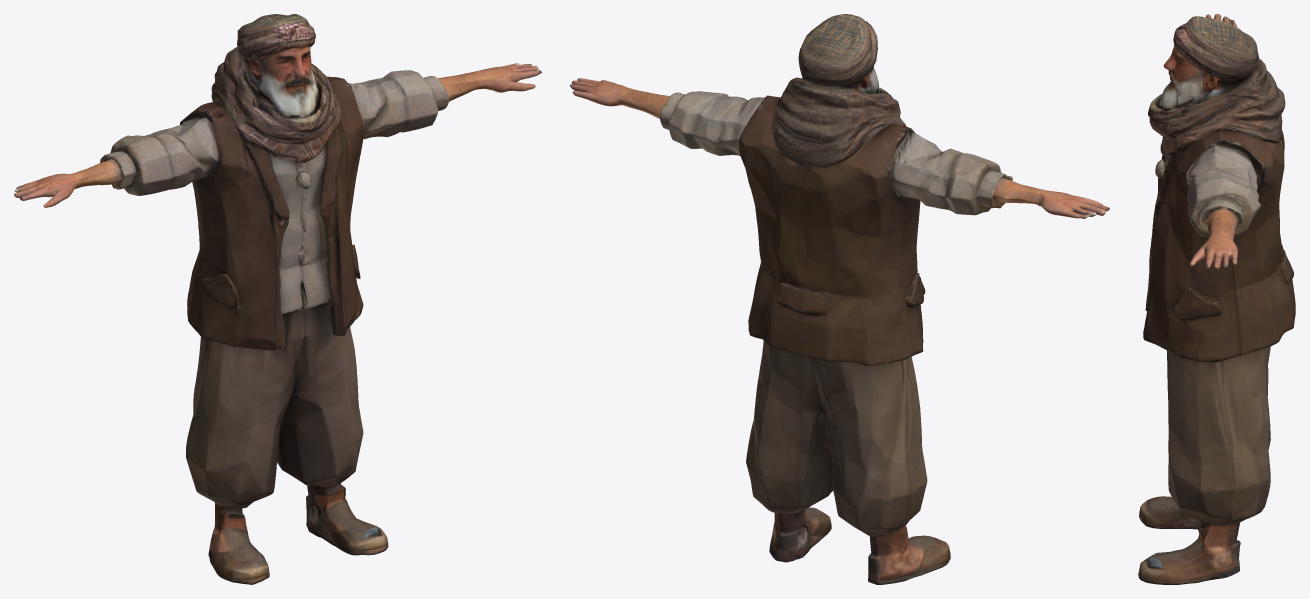
The model's file is turkish_old_villager_men_t-pose.glb.
3 renders of one model, left to right at view 1: azimuth 30°, elevation 25°; view 2: azimuth 150°, elevation 25°; view 3: azimuth 270°, elevation 25°, orthographic. The views are drawn at different scales.
Parts seen in each view (by area): view 1: Object_4; view 2: Object_4; view 3: Object_4.
Boxes of the visible parts, x1=… form: Object_4: x1=14, y1=14, x2=541, y2=584; Object_4: x1=570, y1=14, x2=1109, y2=584; Object_4: x1=1138, y1=14, x2=1295, y2=584.
Size of the model in its own units: 2 by 1.94 by 0.527.
1 material, 1 textured.
